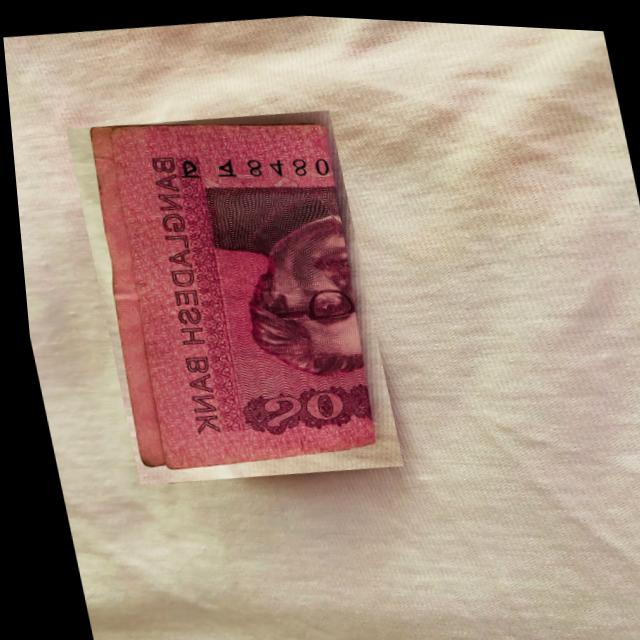Taka: (61, 96, 397, 494)
